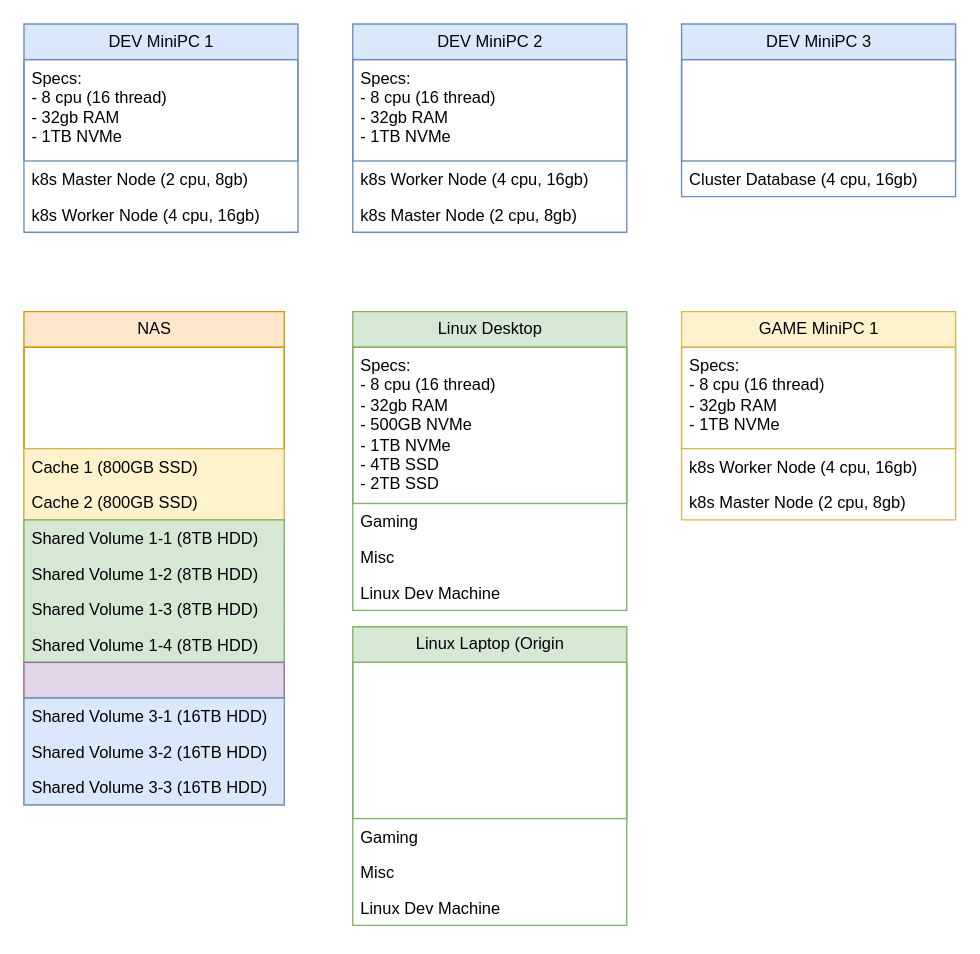
Some shapes in this 980 by 954 pixel diagram are drawn without their labels. The centre of each missing label's shape, as x and y in pixels:
Backup Volume 2-1 (28TB HDD): (x=153, y=679)
Specs: - 2 cpu - 32GB RAM - 21TB HDD: (x=153, y=397)
Specs: - 6 cpu (12 thread) - 32gb RAM - 1TB NVMe: (x=818, y=109)
Specs: - 8 cpu (16 thread) - 64gb RAM - 500GB NVMe - 1TB NVMe - 2TB SSD: (x=489, y=740)
